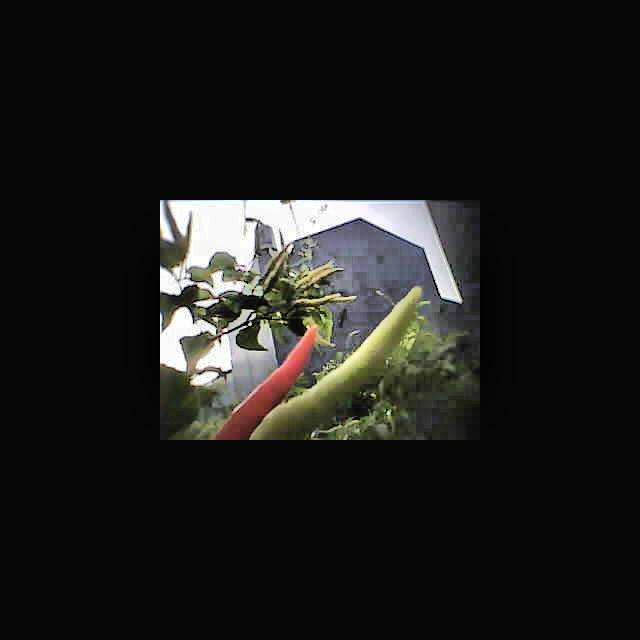Cabai: (250, 325, 311, 391)
